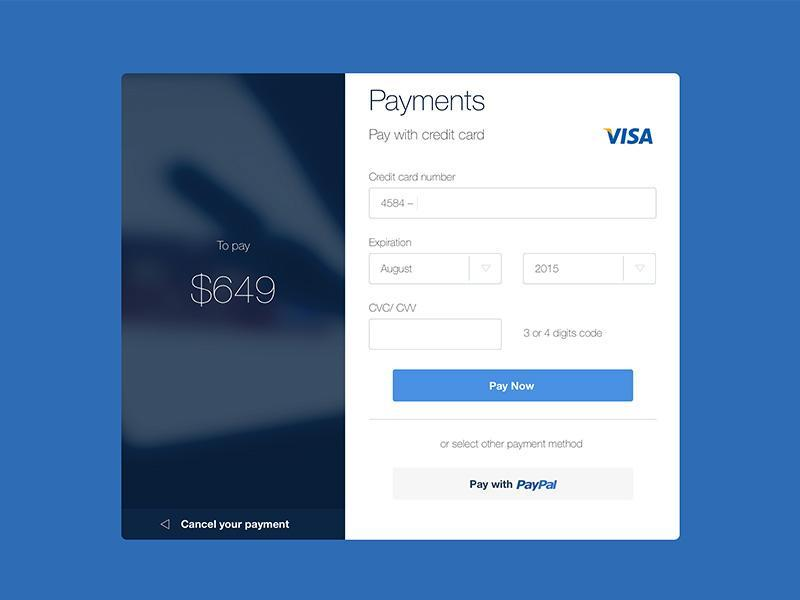button: (392, 467, 637, 503), (393, 369, 635, 403)
dropdown: (523, 252, 659, 286), (369, 253, 505, 286)
input: (367, 186, 659, 224), (368, 318, 504, 352)
label: (370, 87, 490, 116), (440, 435, 586, 450), (181, 517, 293, 534), (369, 128, 488, 143), (521, 328, 606, 341), (368, 172, 460, 184), (367, 237, 415, 249), (217, 240, 255, 255), (369, 303, 419, 313)
